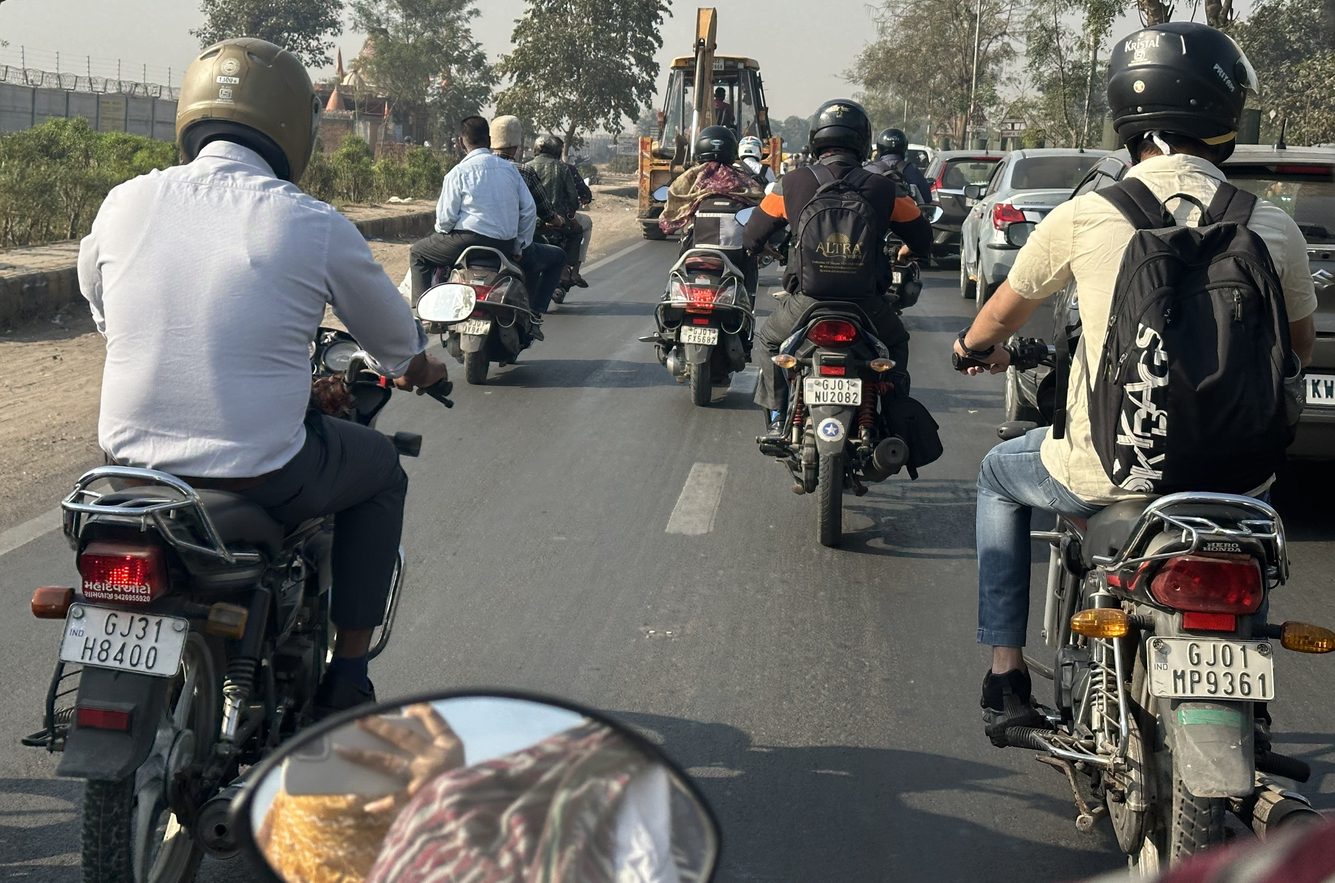BikeWithRider: (14, 26, 475, 883), (943, 13, 1333, 883), (729, 92, 952, 556), (399, 106, 567, 389), (635, 117, 781, 413), (506, 119, 601, 313)
Helmet: (1091, 13, 1271, 175), (161, 27, 329, 192), (801, 93, 879, 166), (694, 120, 742, 171), (484, 109, 527, 159), (873, 123, 913, 167), (527, 128, 567, 165)
NoHelmet: (453, 110, 496, 160)
